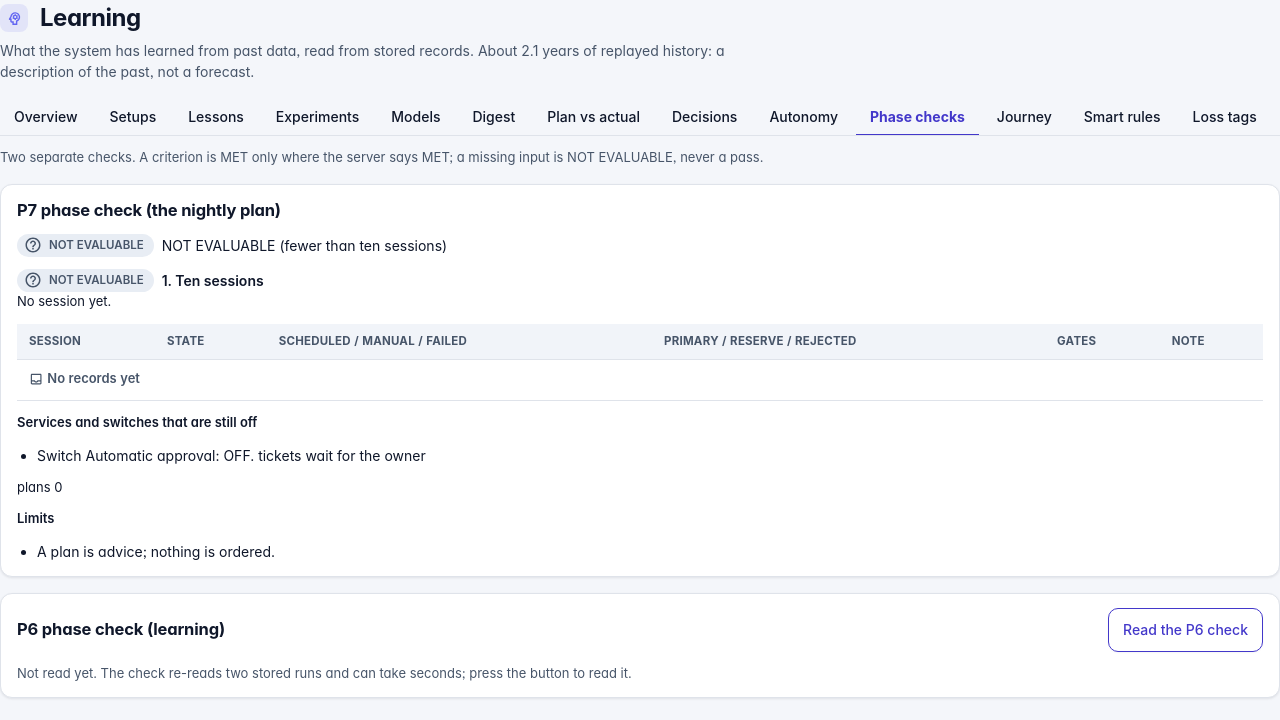
Test: Phase checks › renders server text as text
Step 1. Click the button "Read the P6 check" → click(1186, 630), box 1108,608 -> 1263,652
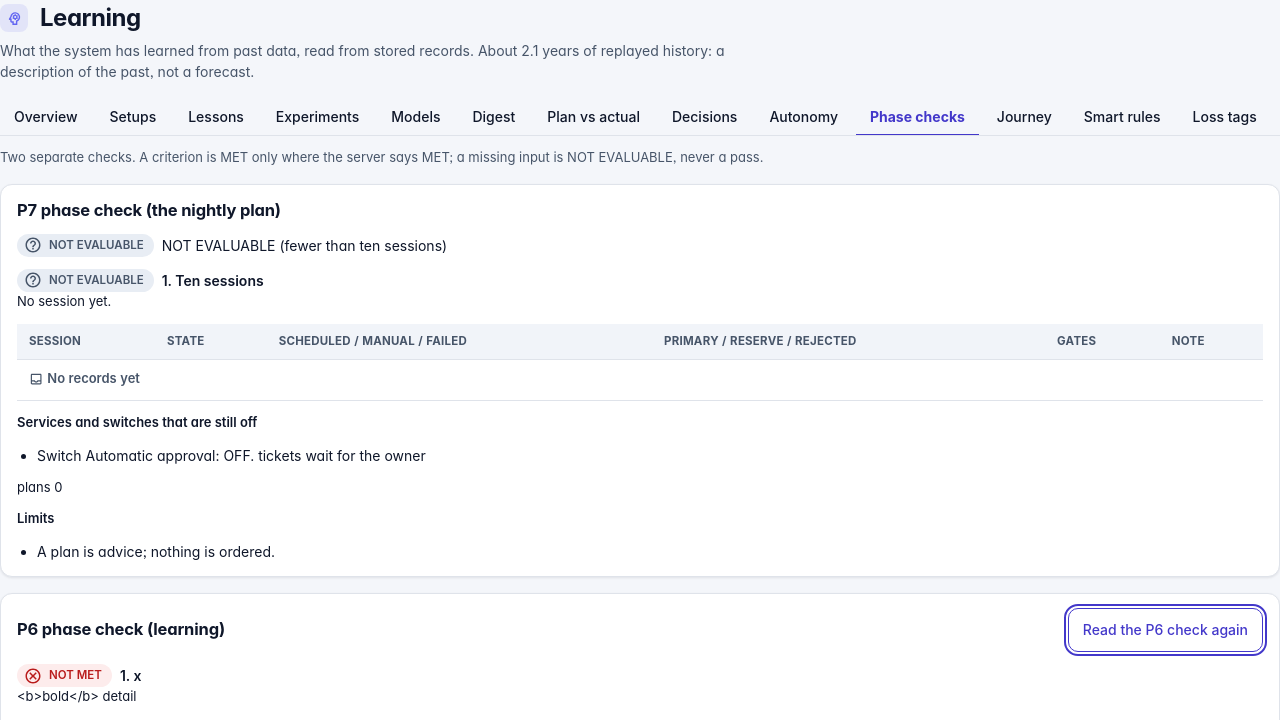
Check: the text "<b>bold</b> detail" is shown, box 17,688 -> 136,704
